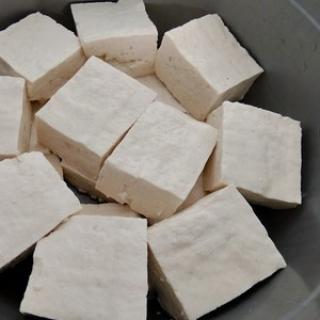Tahu: (27, 49, 224, 223)
